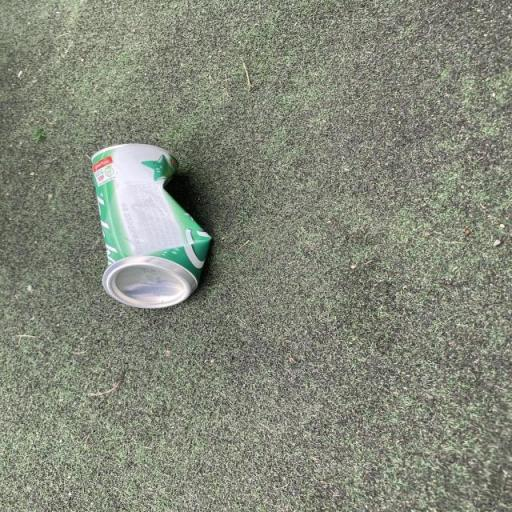metal: (64, 137, 228, 317)
